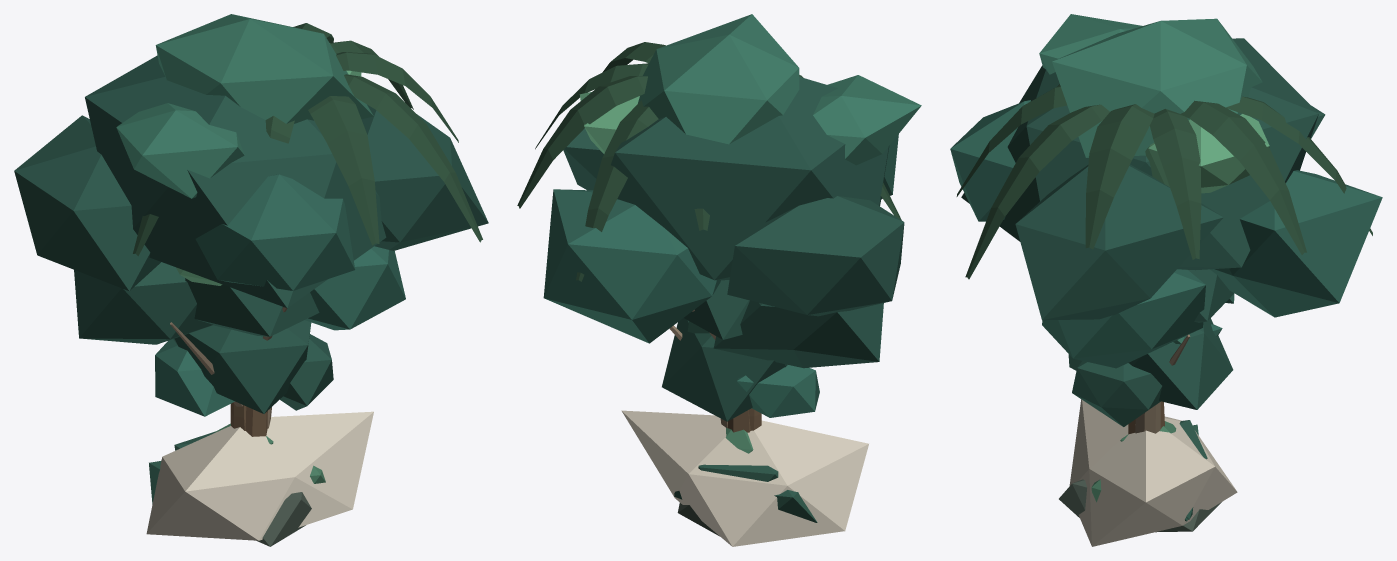
Rendered from nature.glb.
3 renders of one model, left to right at view 1: azimuth 30°, elevation 25°; view 2: azimuth 150°, elevation 25°; view 3: azimuth 270°, elevation 25°, orthographic. The views are drawn at different scales.
Visible parts, largest first — view 1: TreeBig, RockA, TreeMed, TreeSmall, Palm, RockB, BushA; view 2: TreeBig, RockA, TreeMed, TreeSmall, Palm, BushA; view 3: TreeBig, Palm, RockA, TreeMed, TreeSmall, RockB, BushA.
Part boxes in pixels (bbox=[...]): TreeBig: bbox=[14, 14, 488, 436]; RockA: bbox=[146, 411, 373, 540]; TreeMed: bbox=[74, 246, 405, 430]; TreeSmall: bbox=[155, 320, 333, 416]; Palm: bbox=[133, 23, 482, 428]; RockB: bbox=[256, 492, 311, 546]; BushA: bbox=[149, 423, 325, 504]; TreeBig: bbox=[543, 14, 921, 432]; RockA: bbox=[621, 410, 868, 546]; TreeMed: bbox=[684, 280, 883, 430]; TreeSmall: bbox=[662, 318, 819, 421]; Palm: bbox=[517, 42, 901, 428]; BushA: bbox=[674, 428, 817, 522]; TreeBig: bbox=[950, 14, 1382, 434]; Palm: bbox=[956, 84, 1372, 433]; RockA: bbox=[1069, 399, 1237, 546]; TreeMed: bbox=[1042, 269, 1234, 368]; TreeSmall: bbox=[1068, 318, 1233, 426]; RockB: bbox=[1059, 479, 1221, 532]; BushA: bbox=[1091, 420, 1207, 519].
Bounding box in the file's own units: 5.9 × 7.5 × 5.87.
